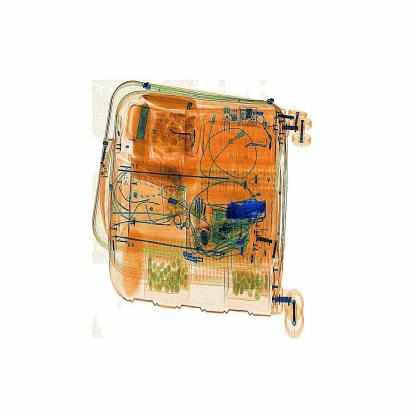knife: (224, 196, 268, 224)
